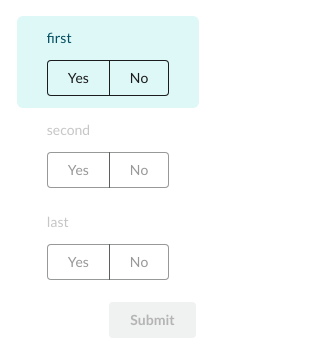
Scenario: AnsweringChecks Component › Answering All with Yes should enable submit button
The image size is (320, 355).
Click the button "Yes" below "first".
click(78, 78)  # box [47,60,110,96]
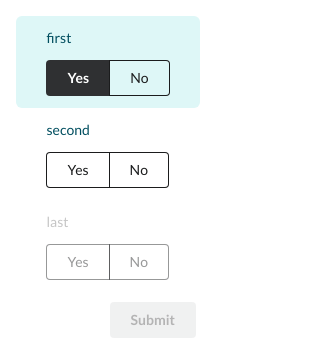
Click the button "Yes" below "second".
click(78, 170)  # box [46,152,110,188]
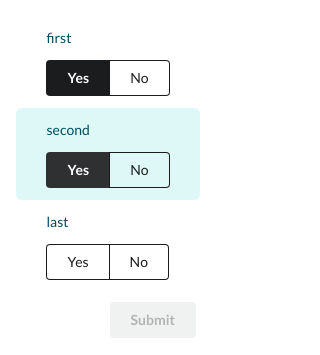
Click the button "Yes" below "last".
click(78, 262)  # box [46,244,110,280]
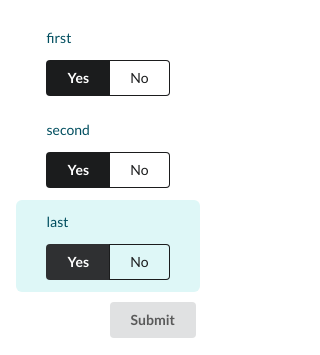
expect the button "Submit" is enabled: met, box [110,302,196,338]
